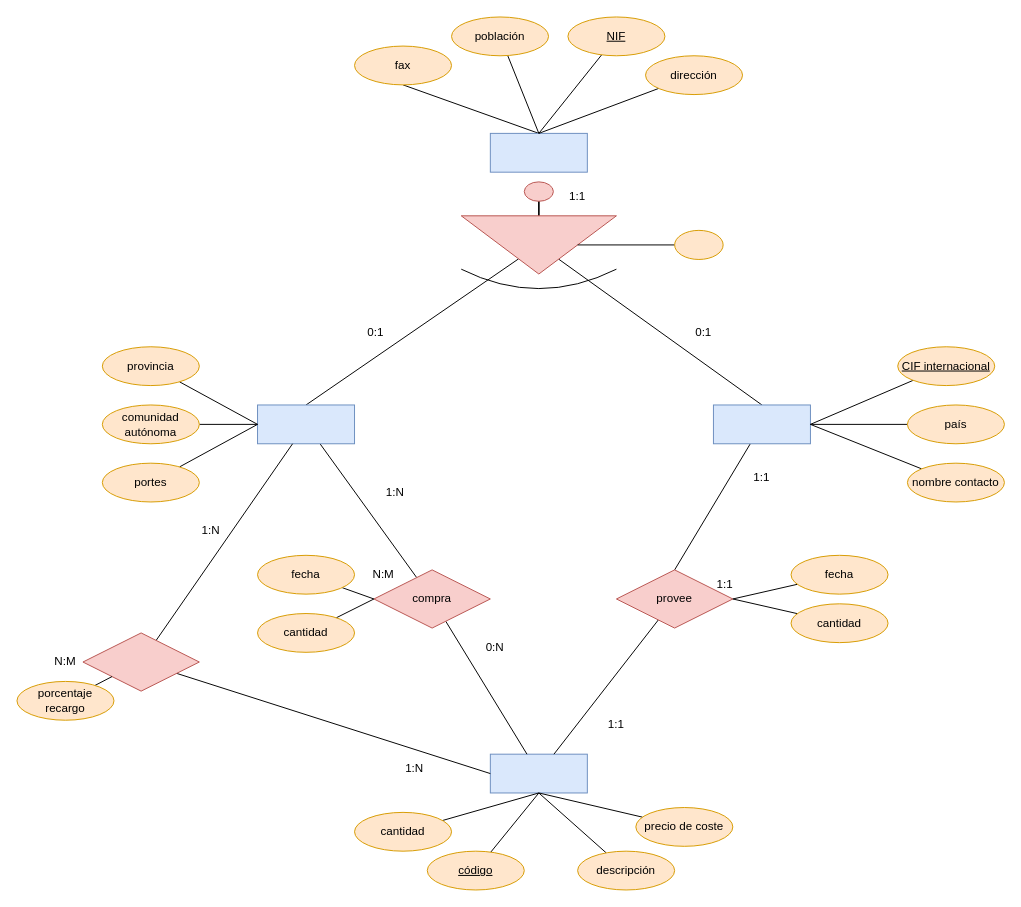
Image size: 1021x907. Some labels were removed from this diagram. The shapes that lost their labels are listed below. From the top down, each one's centre as x and y in pixels, then its label:
point (538, 152): empresa
point (698, 244): tipo
point (306, 424): cliente
point (761, 424): proveedora
point (140, 661): demanda
point (538, 773): producto
